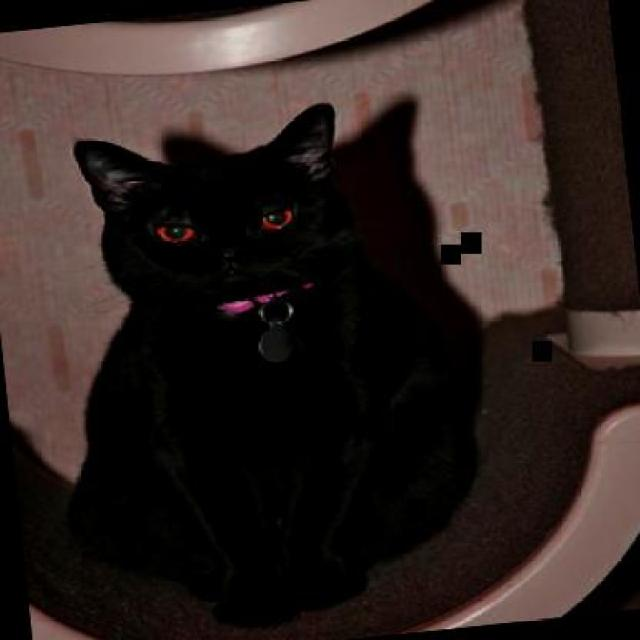cat: (29, 87, 494, 638)
